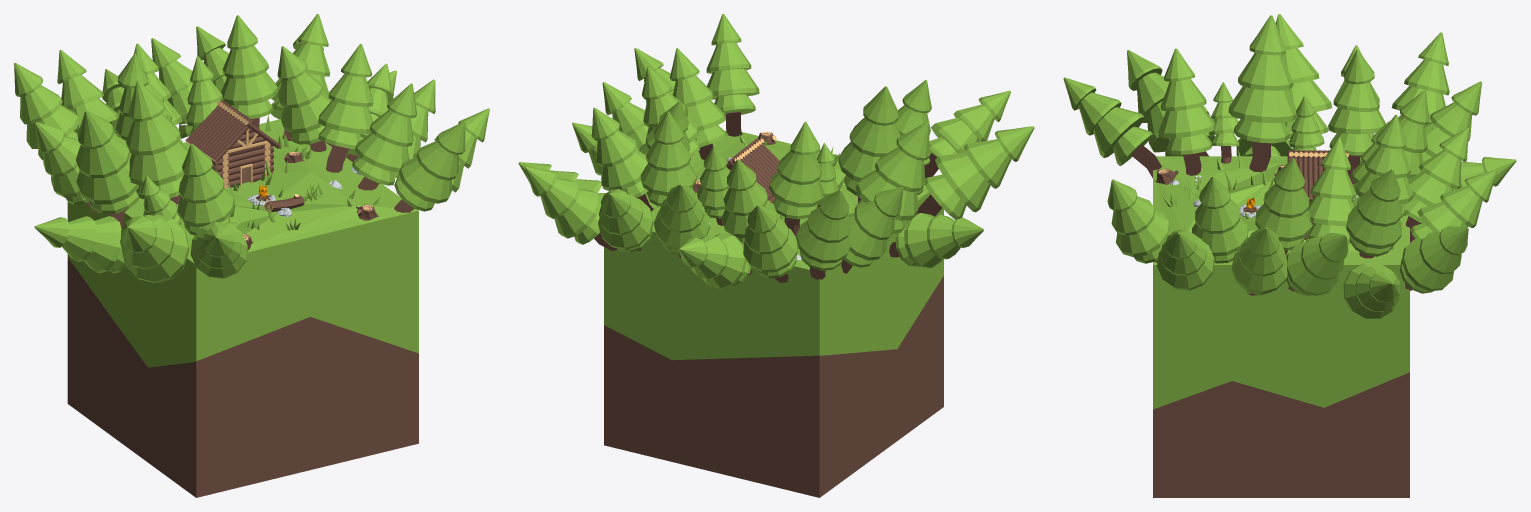
File: CabinintheWoods.glb
3 renders of one model, left to right at view 1: azimuth 30°, elevation 25°; view 2: azimuth 150°, elevation 25°; view 3: azimuth 270°, elevation 25°, orthographic. The views are drawn at different scales.
Visible parts, largest first — view 1: Node; view 2: Node; view 3: Node.
Boxes of the visible parts, x1=… form: Node: x1=14, y1=14, x2=489, y2=497; Node: x1=518, y1=14, x2=1034, y2=497; Node: x1=1063, y1=14, x2=1516, y2=497.
Bounding box in the file's own units: 1.74 × 1.48 × 1.62.
